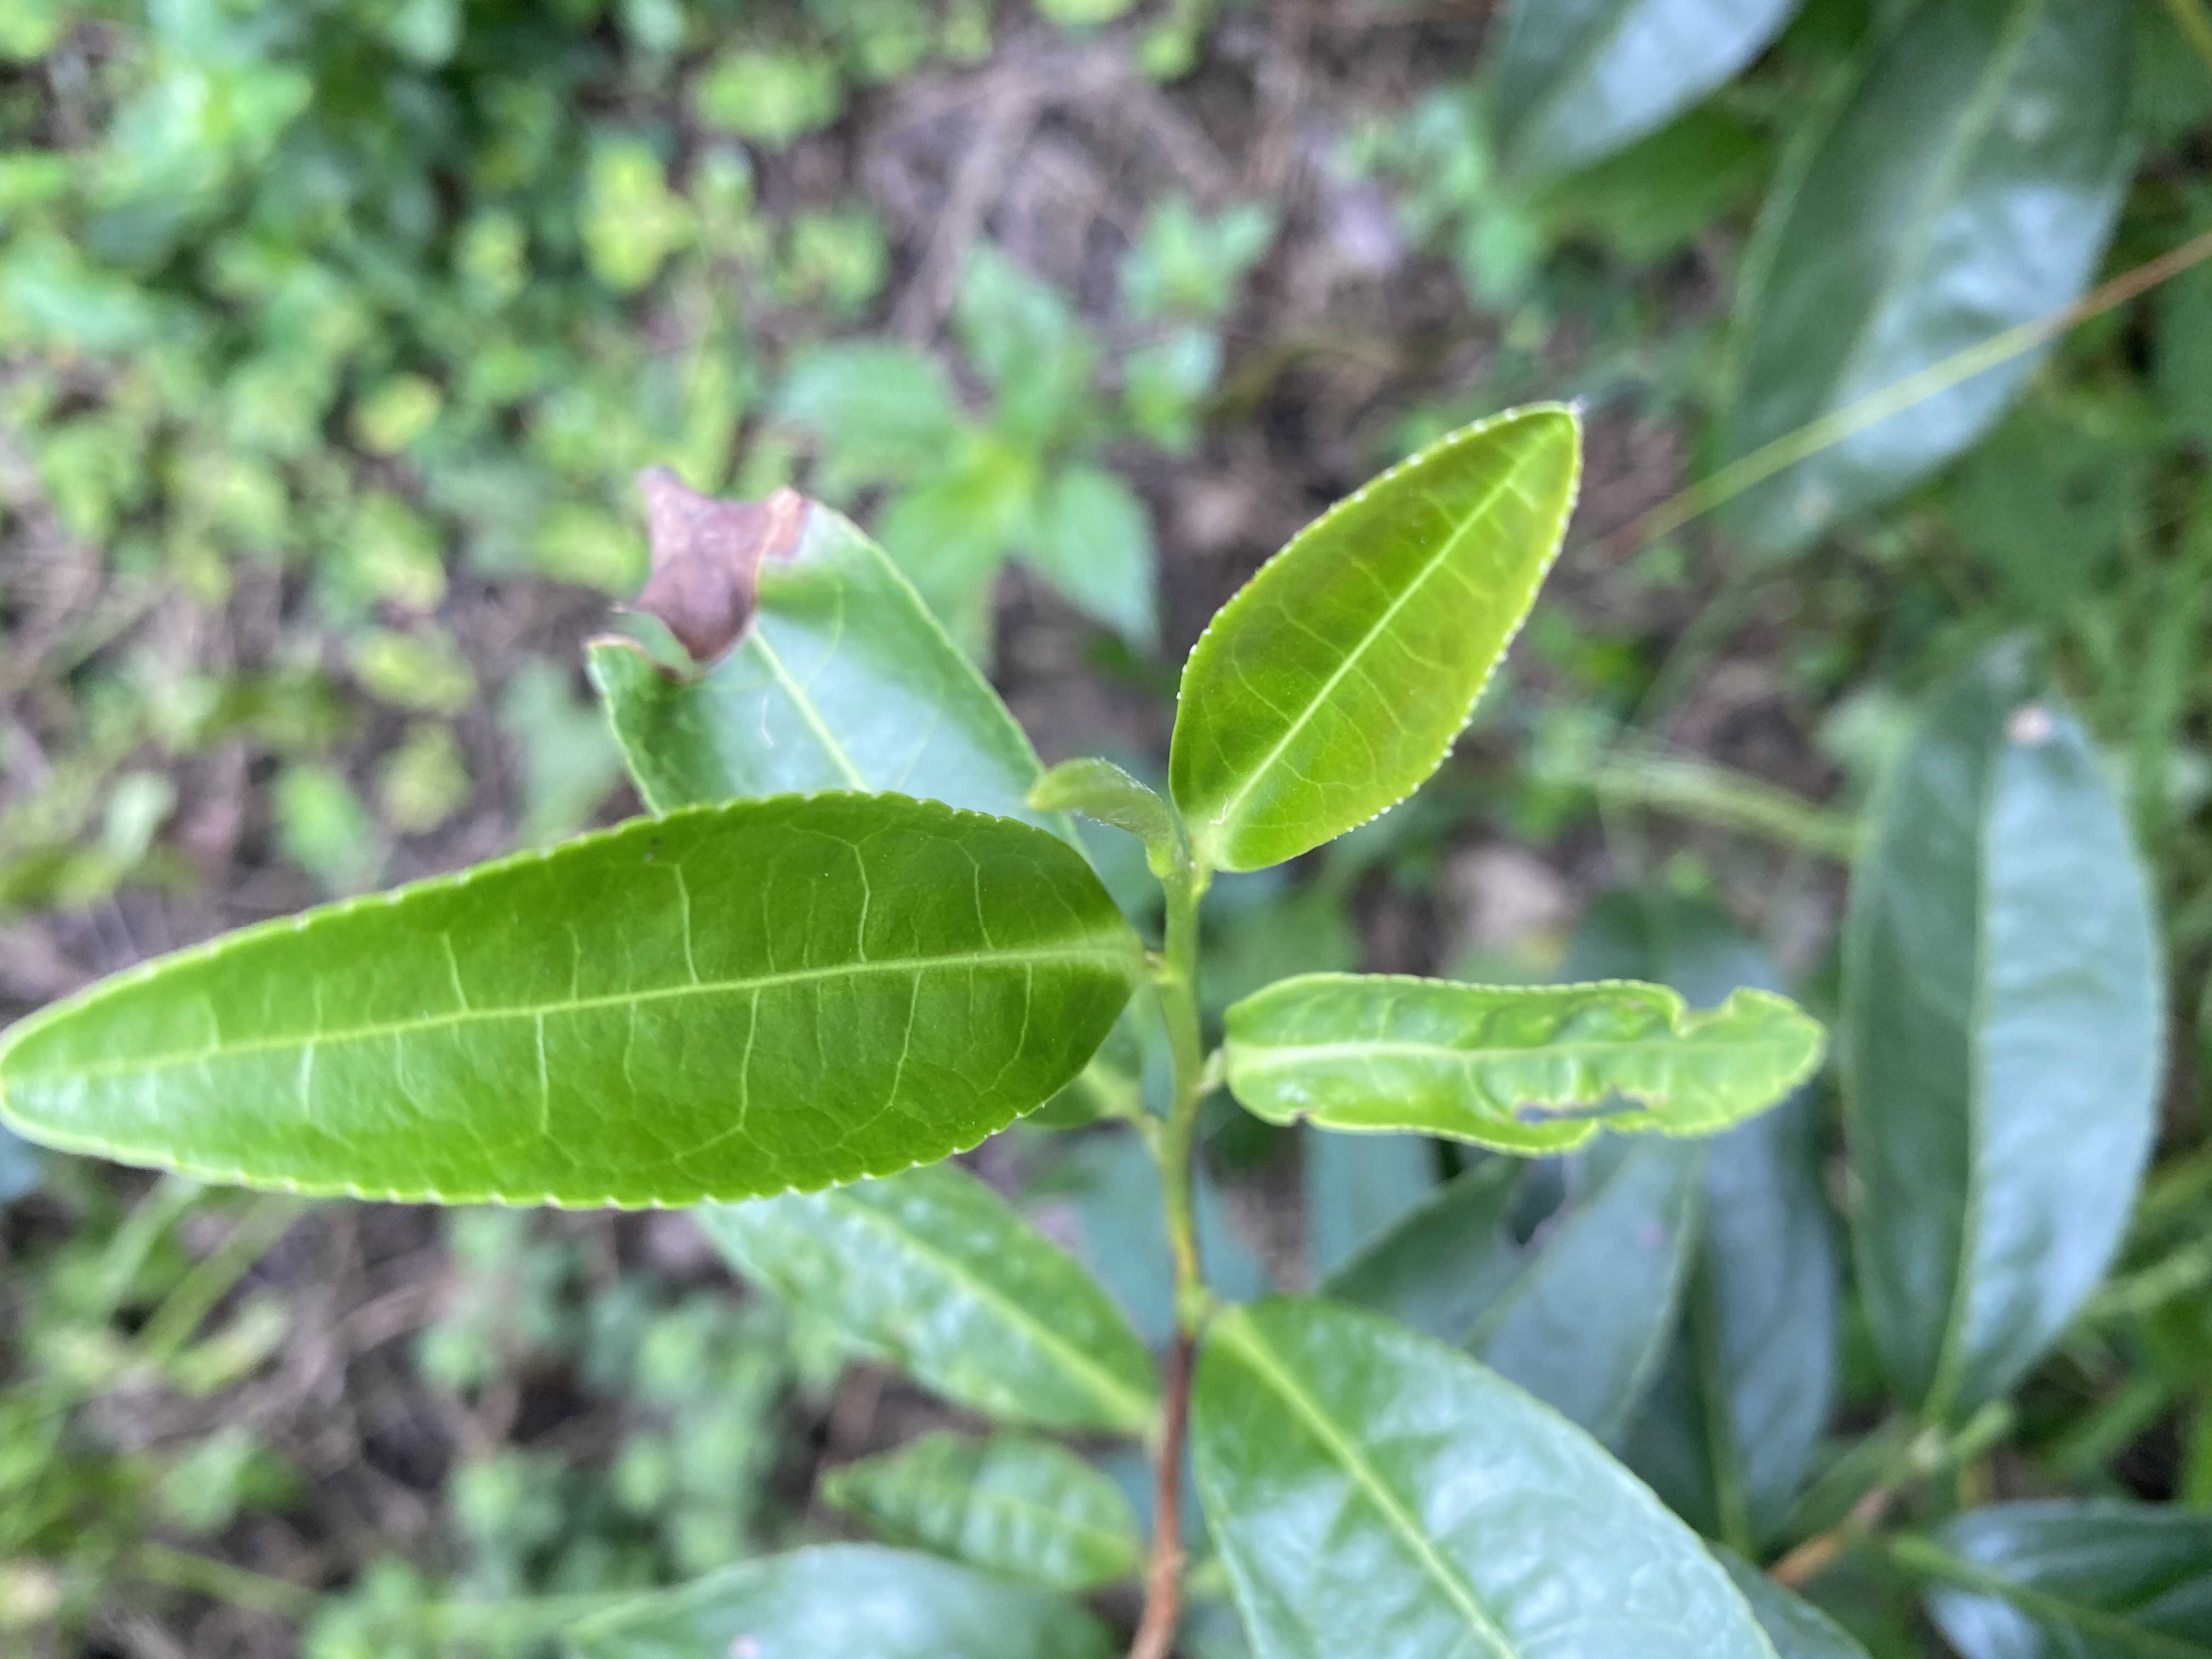chihuo_high: (1223, 971, 1831, 1157)
healthy: (0, 791, 1144, 1213), (1165, 404, 1578, 877)
tanju_high: (583, 460, 1082, 850)
